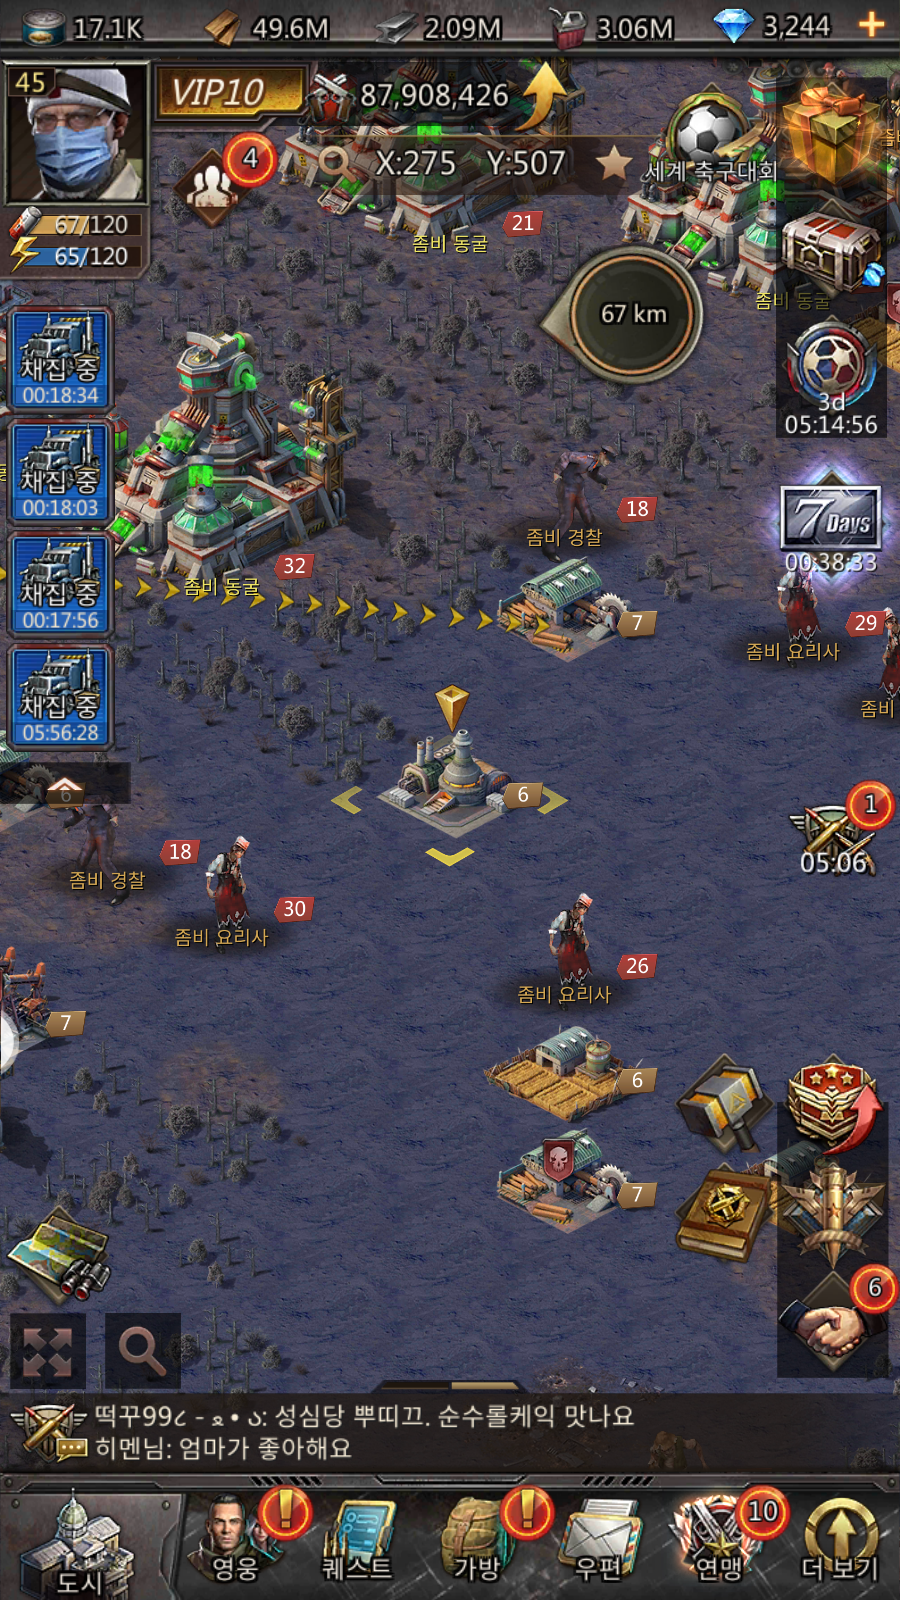city: (7, 1471, 189, 1600)
empty_steel: (309, 665, 585, 885)
open_panel: (89, 1300, 195, 1407)
troops_cnt_4: (151, 120, 298, 242)
